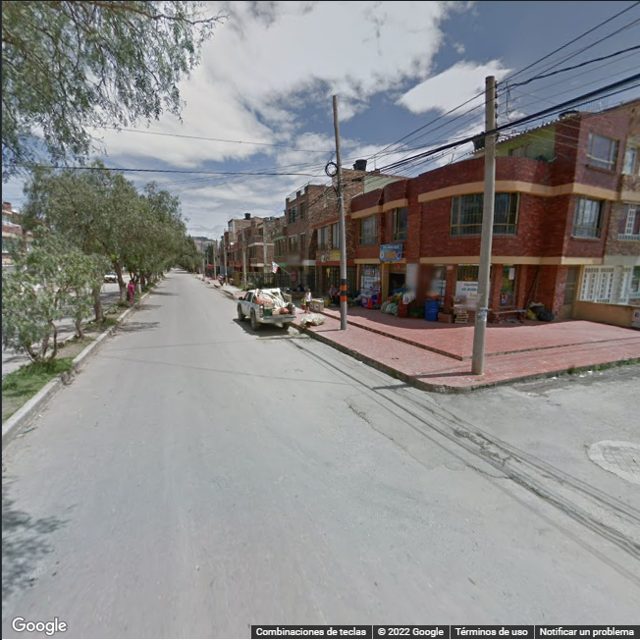D00: (519, 480, 640, 551), (339, 398, 432, 472), (474, 426, 522, 461)
D40: (454, 424, 485, 444)
